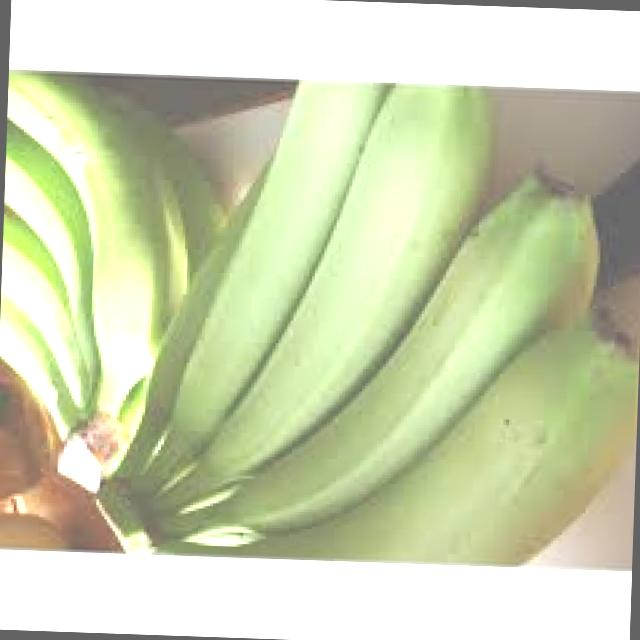Banana: (98, 68, 640, 570), (0, 69, 230, 497)
